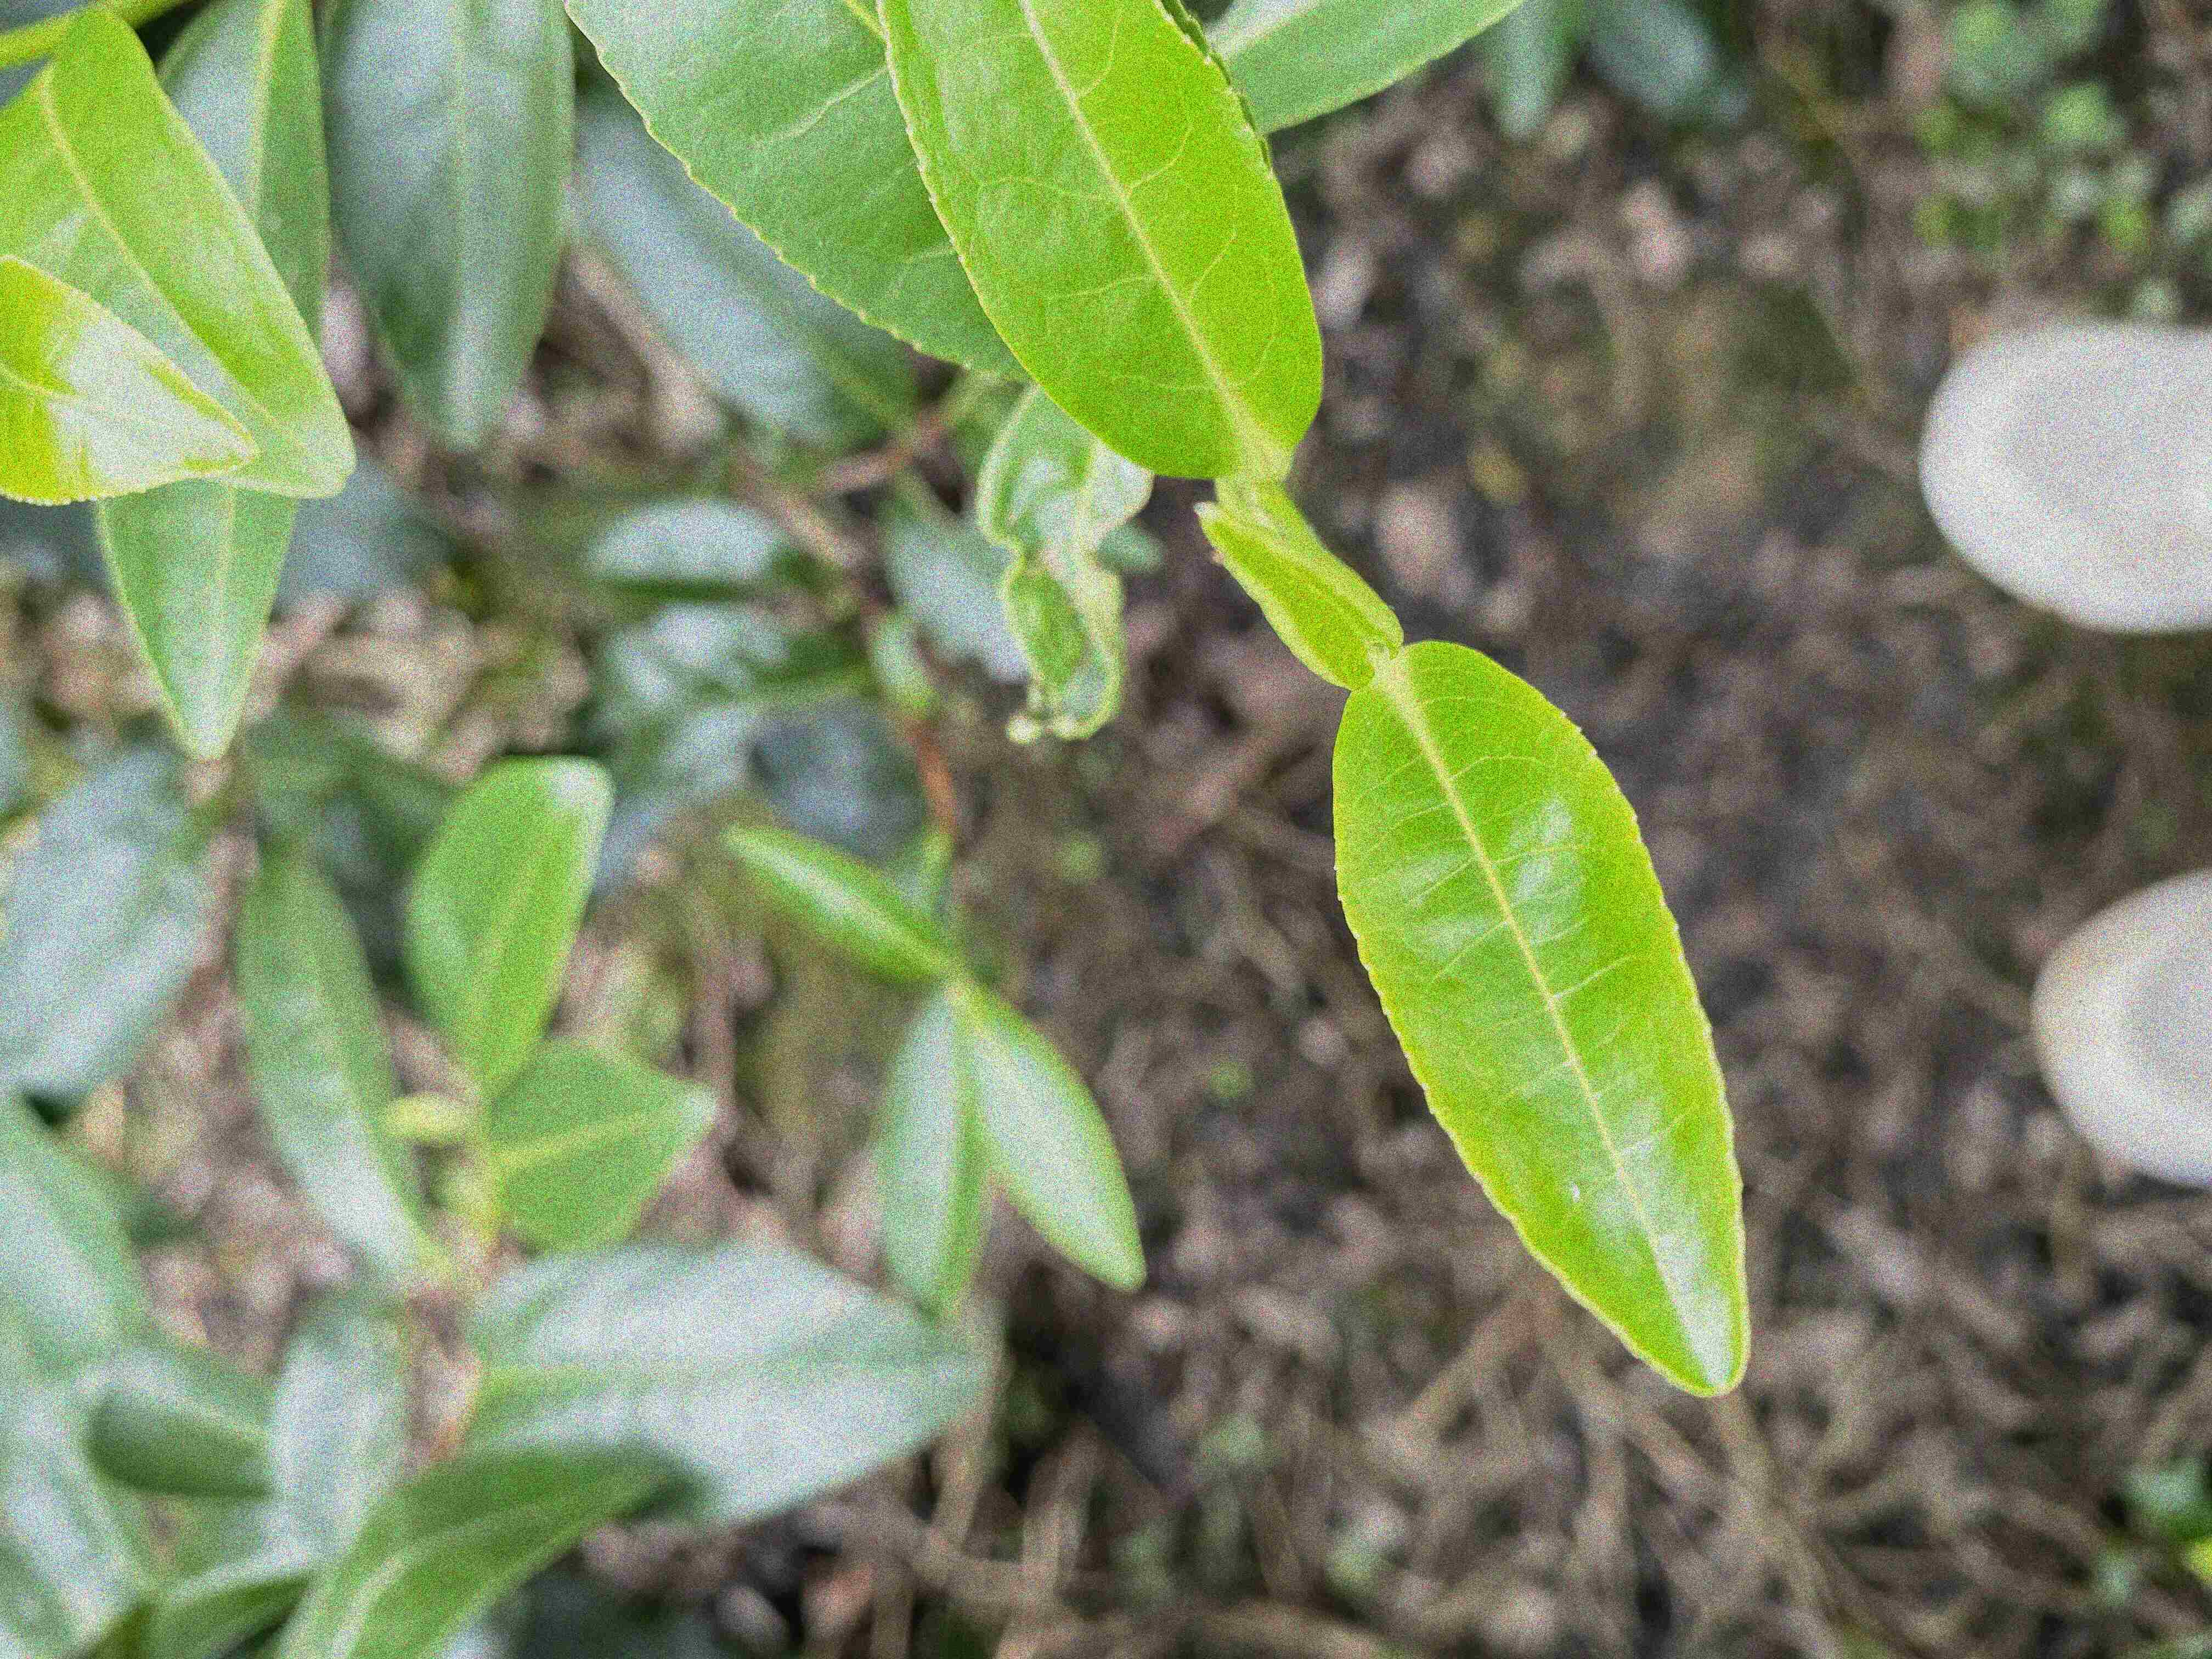healthy: (1332, 638, 1752, 1396), (873, 3, 1322, 486), (3, 253, 258, 509)
